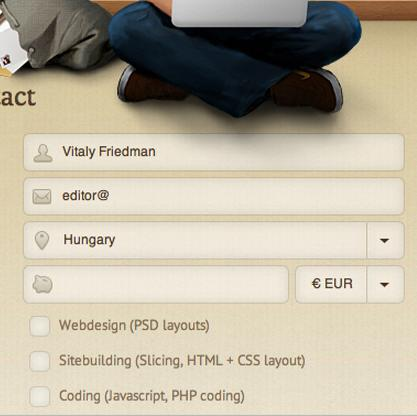checkbox: (29, 315, 53, 337), (28, 351, 52, 373), (28, 386, 52, 408)
checkbox_with_label: (25, 349, 309, 374), (25, 385, 248, 410), (26, 312, 209, 338)
field: (20, 176, 405, 216), (23, 221, 406, 261), (20, 133, 405, 172), (21, 264, 289, 304), (295, 265, 404, 303)
